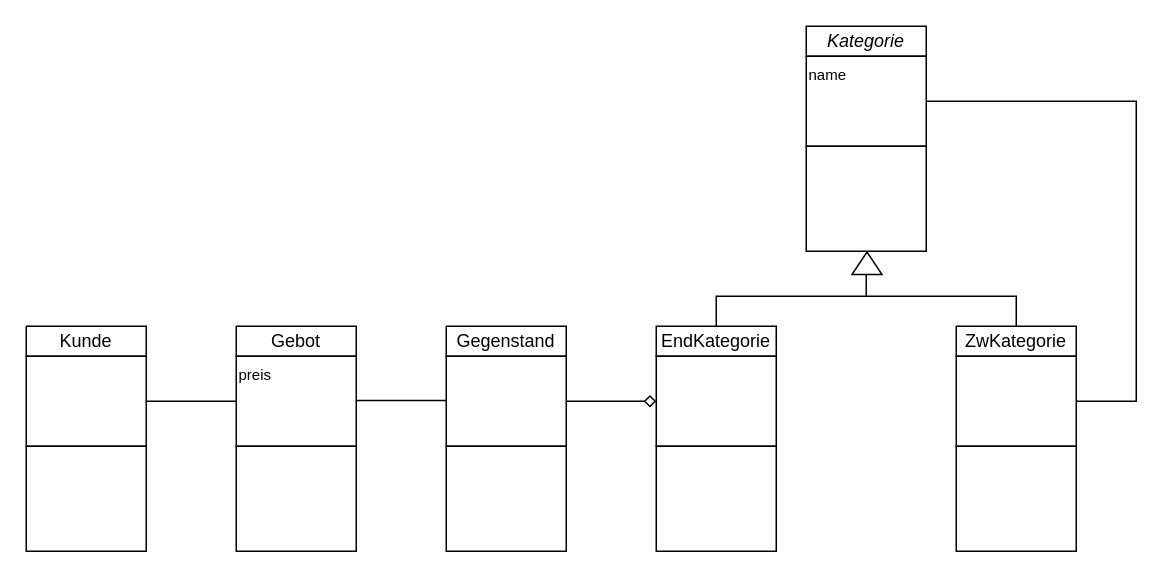
This 1164x578 diagram has some shape labels left out. The box of each missing label's shape, as (x1, y1, x2, y2) in pixels:
bezeichnung mindestpreis zustand auktionsende: (445, 355, 566, 446)
name adresse iban email: (25, 355, 146, 446)
